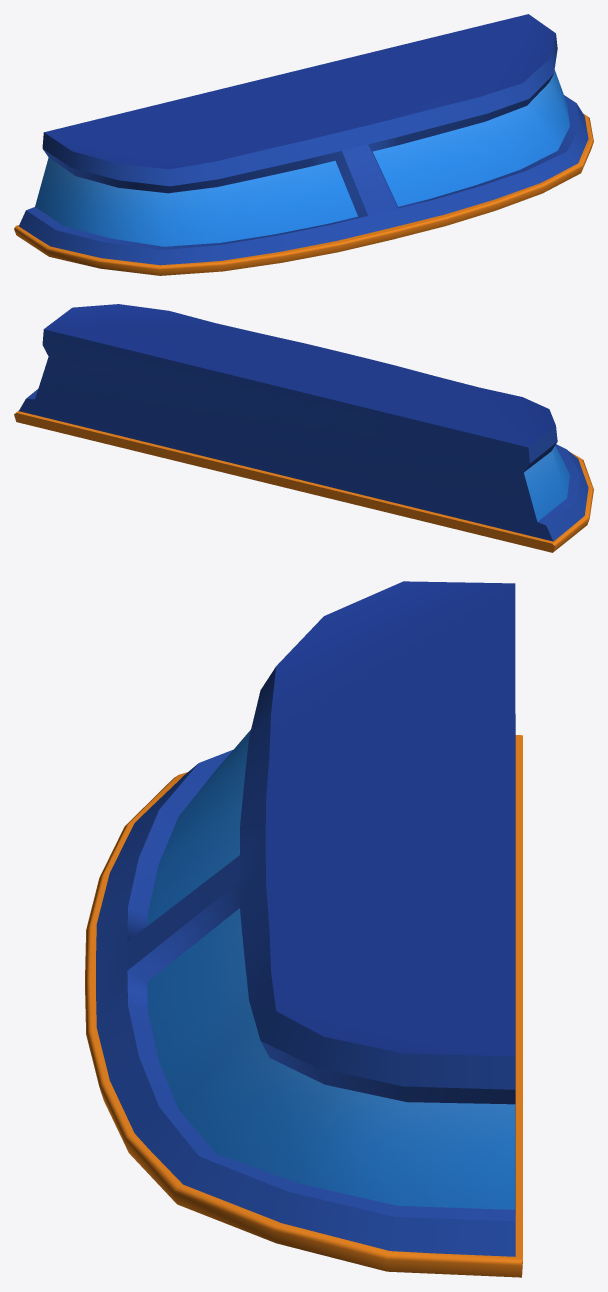
The model's file is Car_01_FrontBumper_Cool.fbx.
3 renders of one model, top to bottom at view 1: azimuth 30°, elevation 25°; view 2: azimuth 150°, elevation 25°; view 3: azimuth 270°, elevation 25°, orthographic. The views are drawn at different scales.
Visible parts, largest first — view 1: Car_01_FrontBumper_Cool; view 2: Car_01_FrontBumper_Cool; view 3: Car_01_FrontBumper_Cool.
Boxes of the visible parts, x1,y1,x2,y2 form: Car_01_FrontBumper_Cool: (14,14,593,275); Car_01_FrontBumper_Cool: (14,304,593,552); Car_01_FrontBumper_Cool: (85,581,522,1277).
Bounding box in the file's own units: 212 × 74.11 × 37.02.
